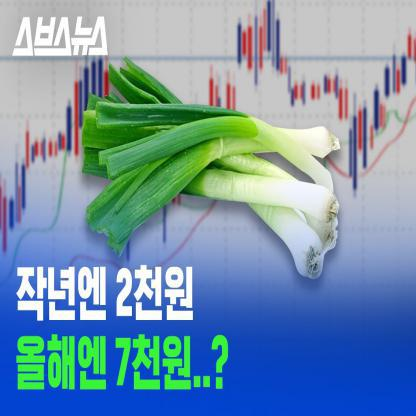green onion: (75, 86, 350, 254)
